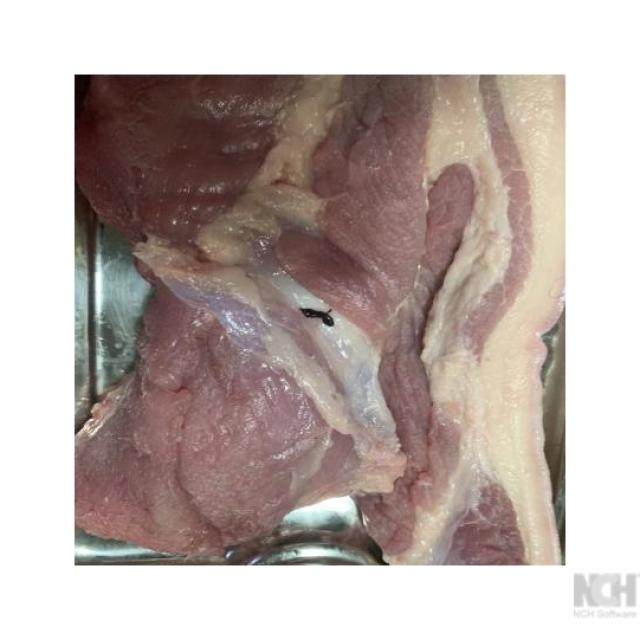rotten meat: (48, 53, 578, 574)
